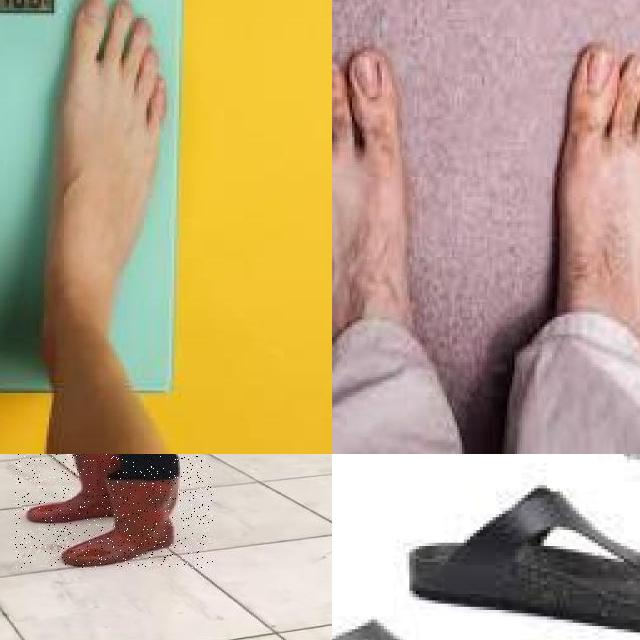Barefoots: (332, 14, 467, 443), (25, 0, 172, 376), (506, 25, 640, 421)
Sandals: (332, 454, 640, 640)
boots: (60, 477, 184, 567), (22, 454, 146, 527)
person: (15, 454, 213, 568)
